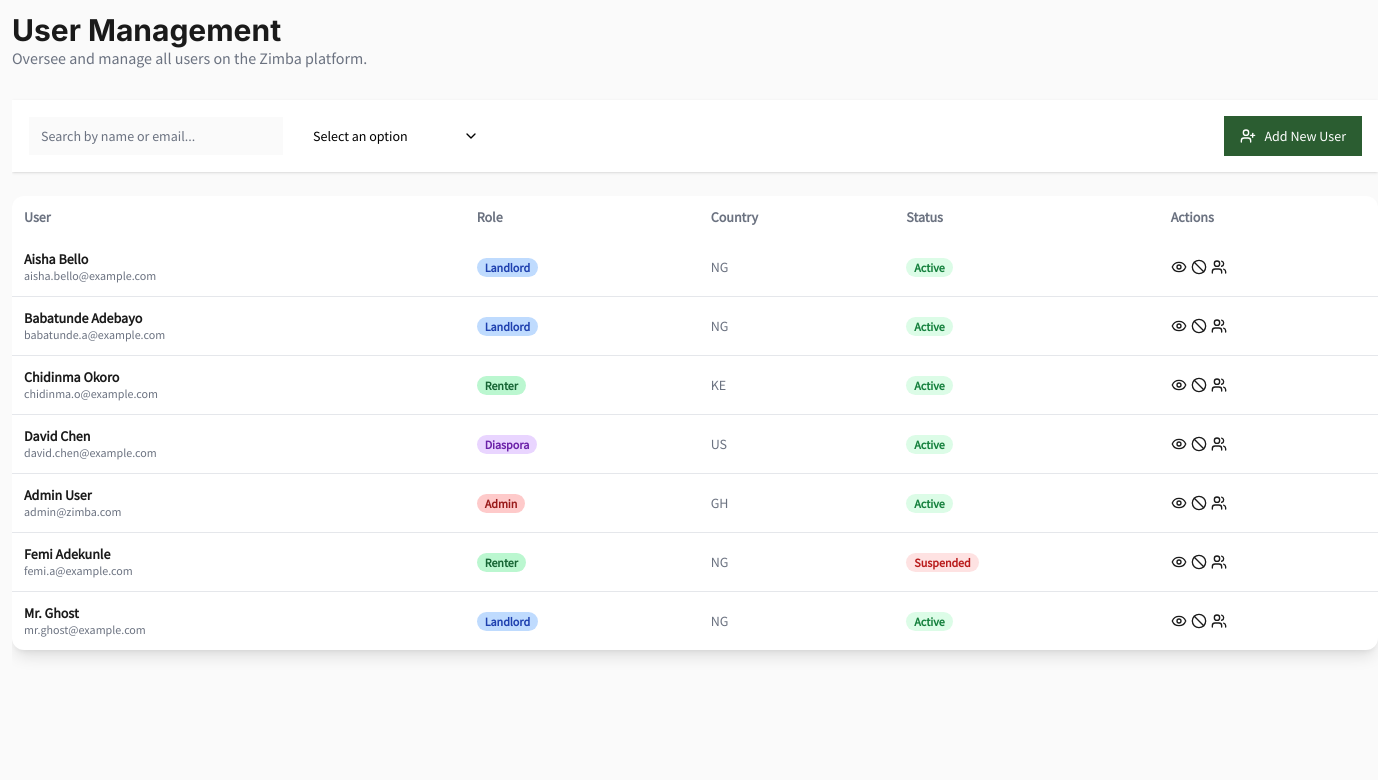
it: UserManagement Panel Component › should filter users by search term
Expected: the text "Aisha Bello" is shown, 24,250 -> 88,268
Expected: the text "David Chen" is shown, 24,427 -> 90,445
Step 1. Type "david" into the field with placeholder "Search by name or email..." → (156, 136), box 28,116 -> 284,156
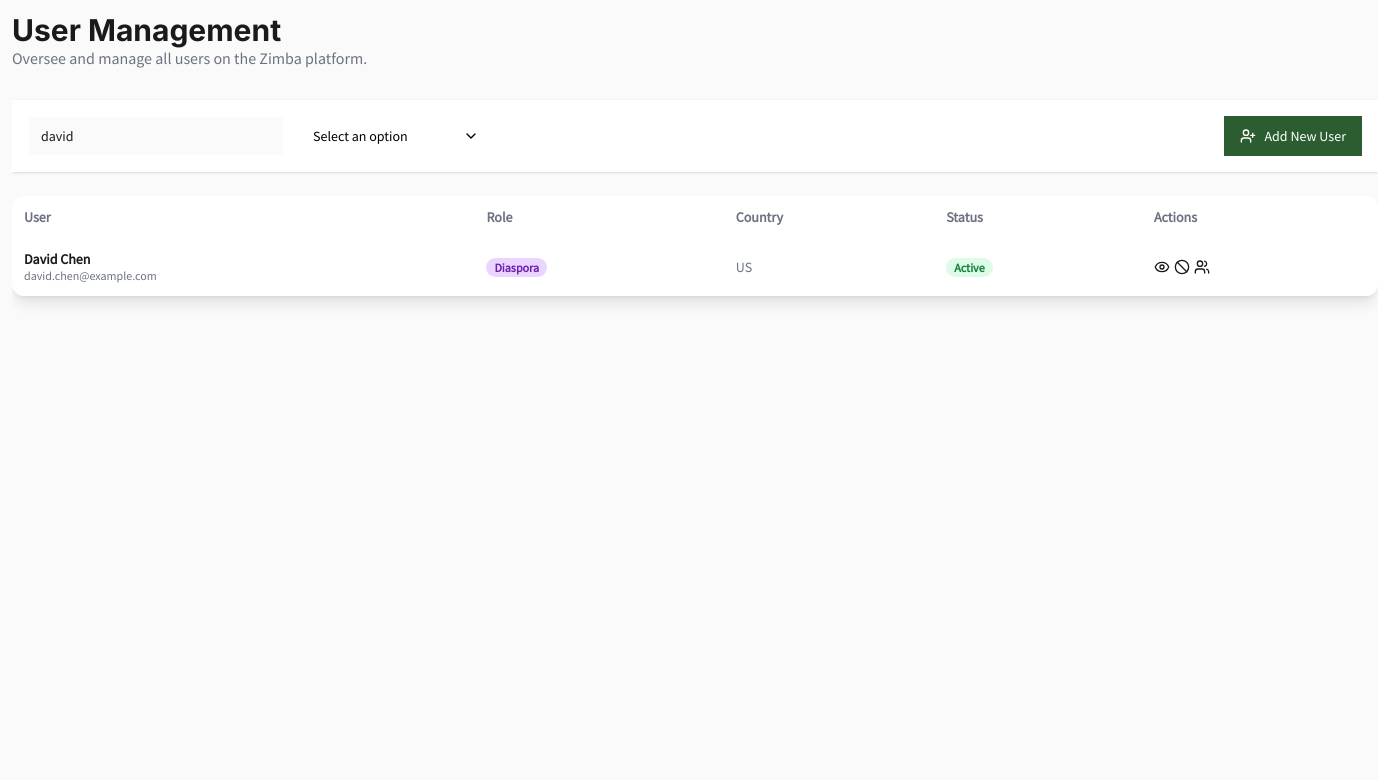
Expected: the text "David Chen" is shown, 24,250 -> 90,268
Expected: the text "Aisha Bello" is gone
